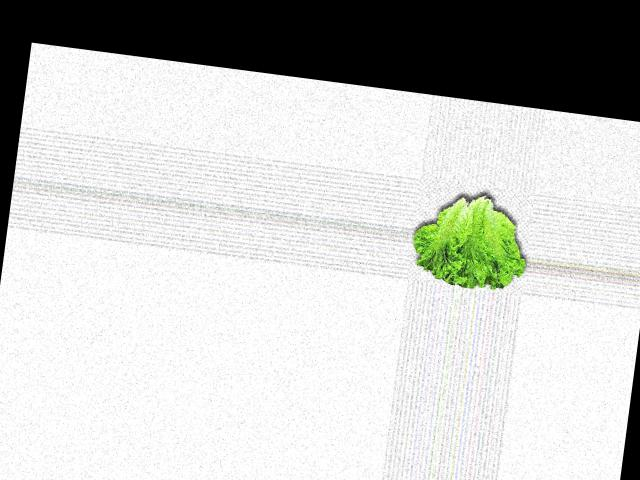lettuce: (405, 184, 531, 294)
